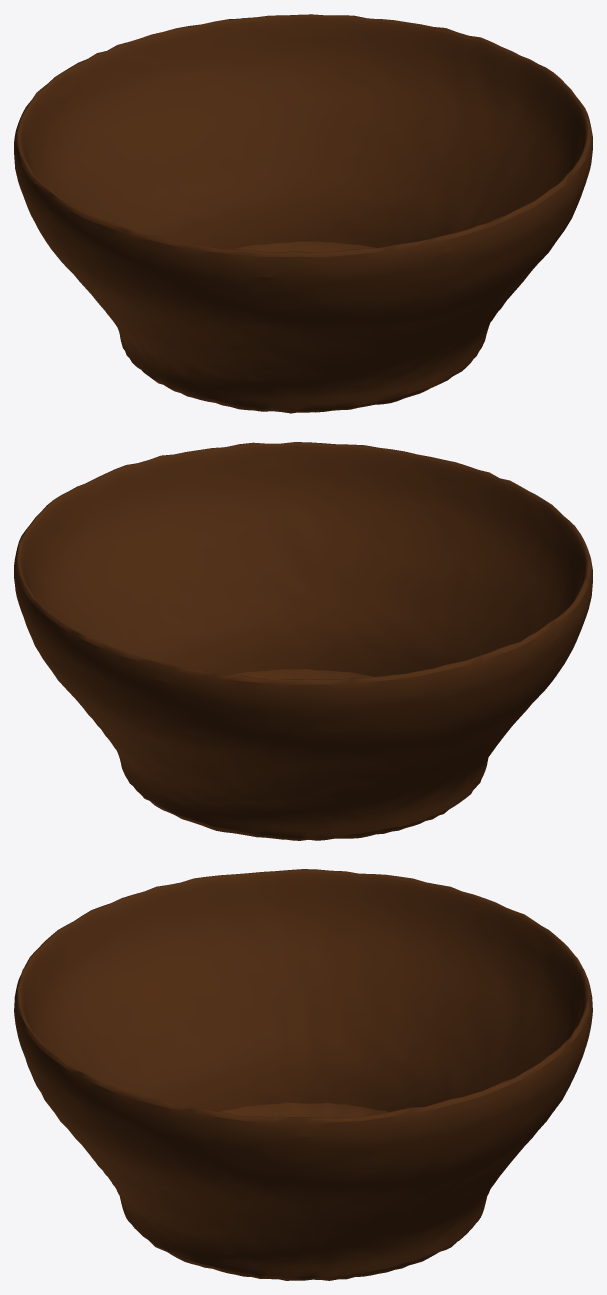
The model's file is wadah rotan 3.fbx.
The picture shows the model from 3 angles, top to bottom: view 1: azimuth 30°, elevation 25°; view 2: azimuth 150°, elevation 25°; view 3: azimuth 270°, elevation 25°; orthographic projection. The views are drawn at different scales.
Visible parts, largest first — view 1: Circle.003; view 2: Circle.003; view 3: Circle.003.
Part boxes in pixels (x1,y1,x2,y2): Circle.003: (14,14,592,413); Circle.003: (14,442,592,840); Circle.003: (14,869,592,1280).
Size of the model in its own units: 692 by 288 by 672.
1 material, 1 textured.
